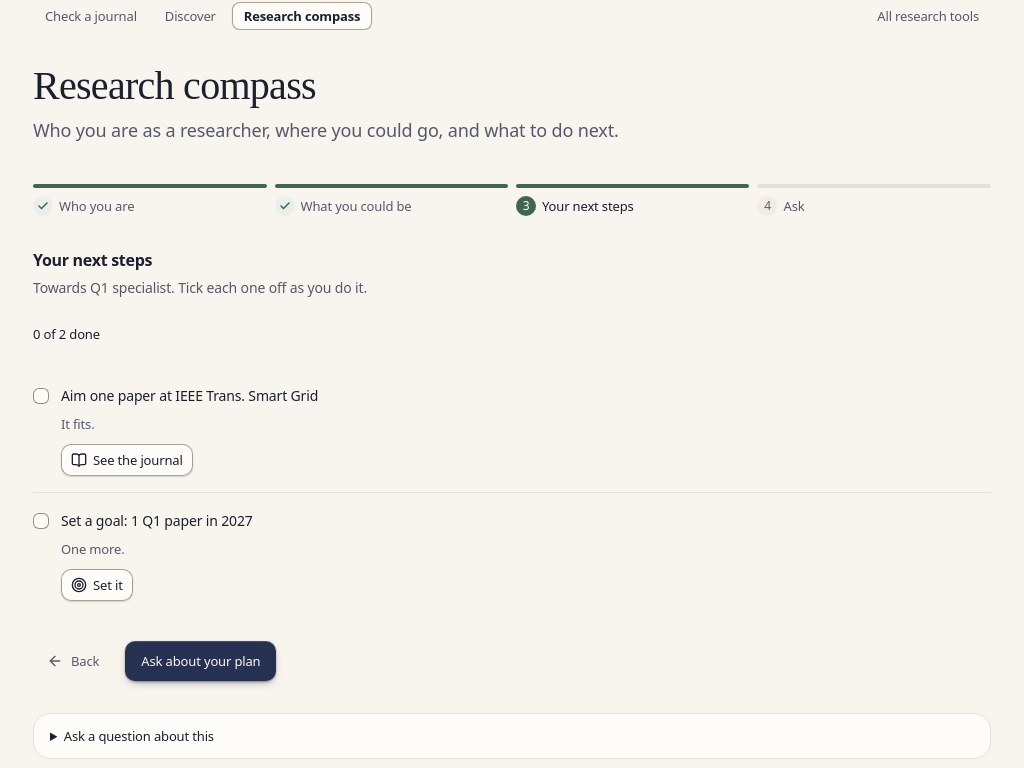
Research compass › doing a step with its own button ticks it, without asking twice
Expected: the text "0 of 2 done" is shown, [33,325,100,343]
What coordinates should you click on to do the following:
click the button "Set it"
I would click on:
 (97, 585)
Its box is [61,569,133,601].
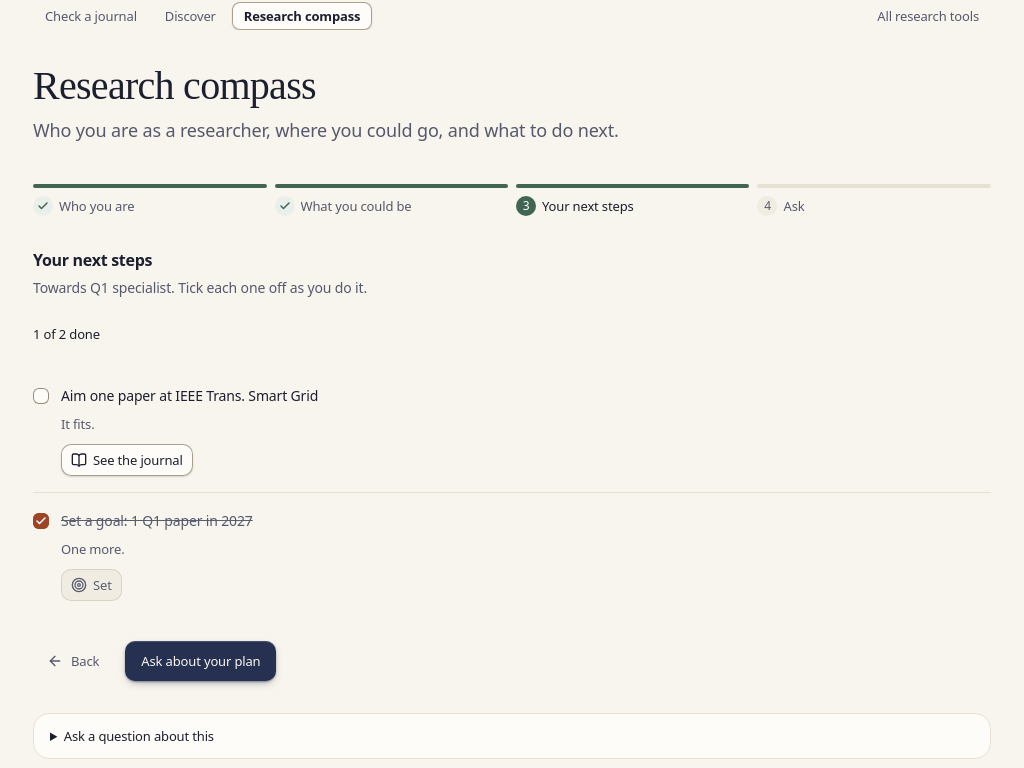
Now the text "1 of 2 done" is shown, box [33,325,100,343]
